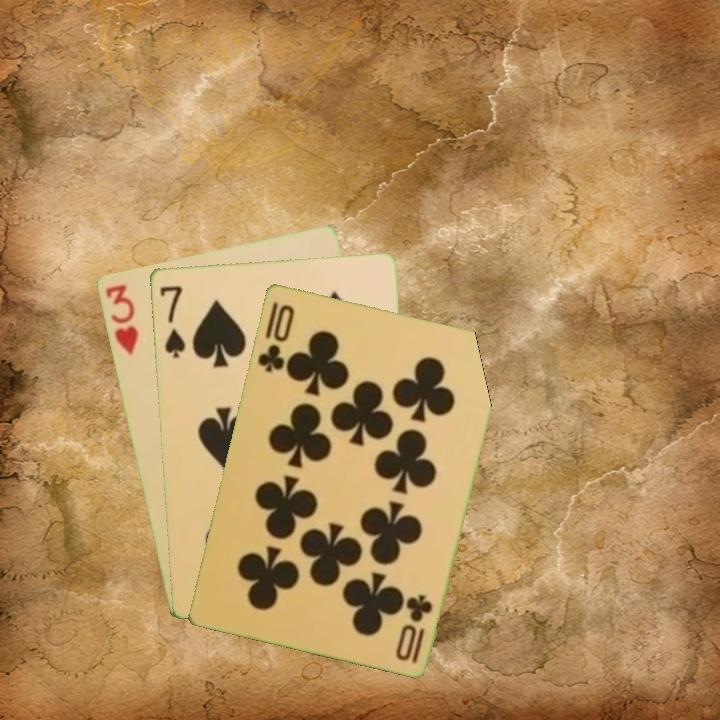10c: (254, 300, 297, 375), (404, 590, 435, 666)
3h: (101, 280, 141, 358)
7s: (155, 282, 188, 361)
